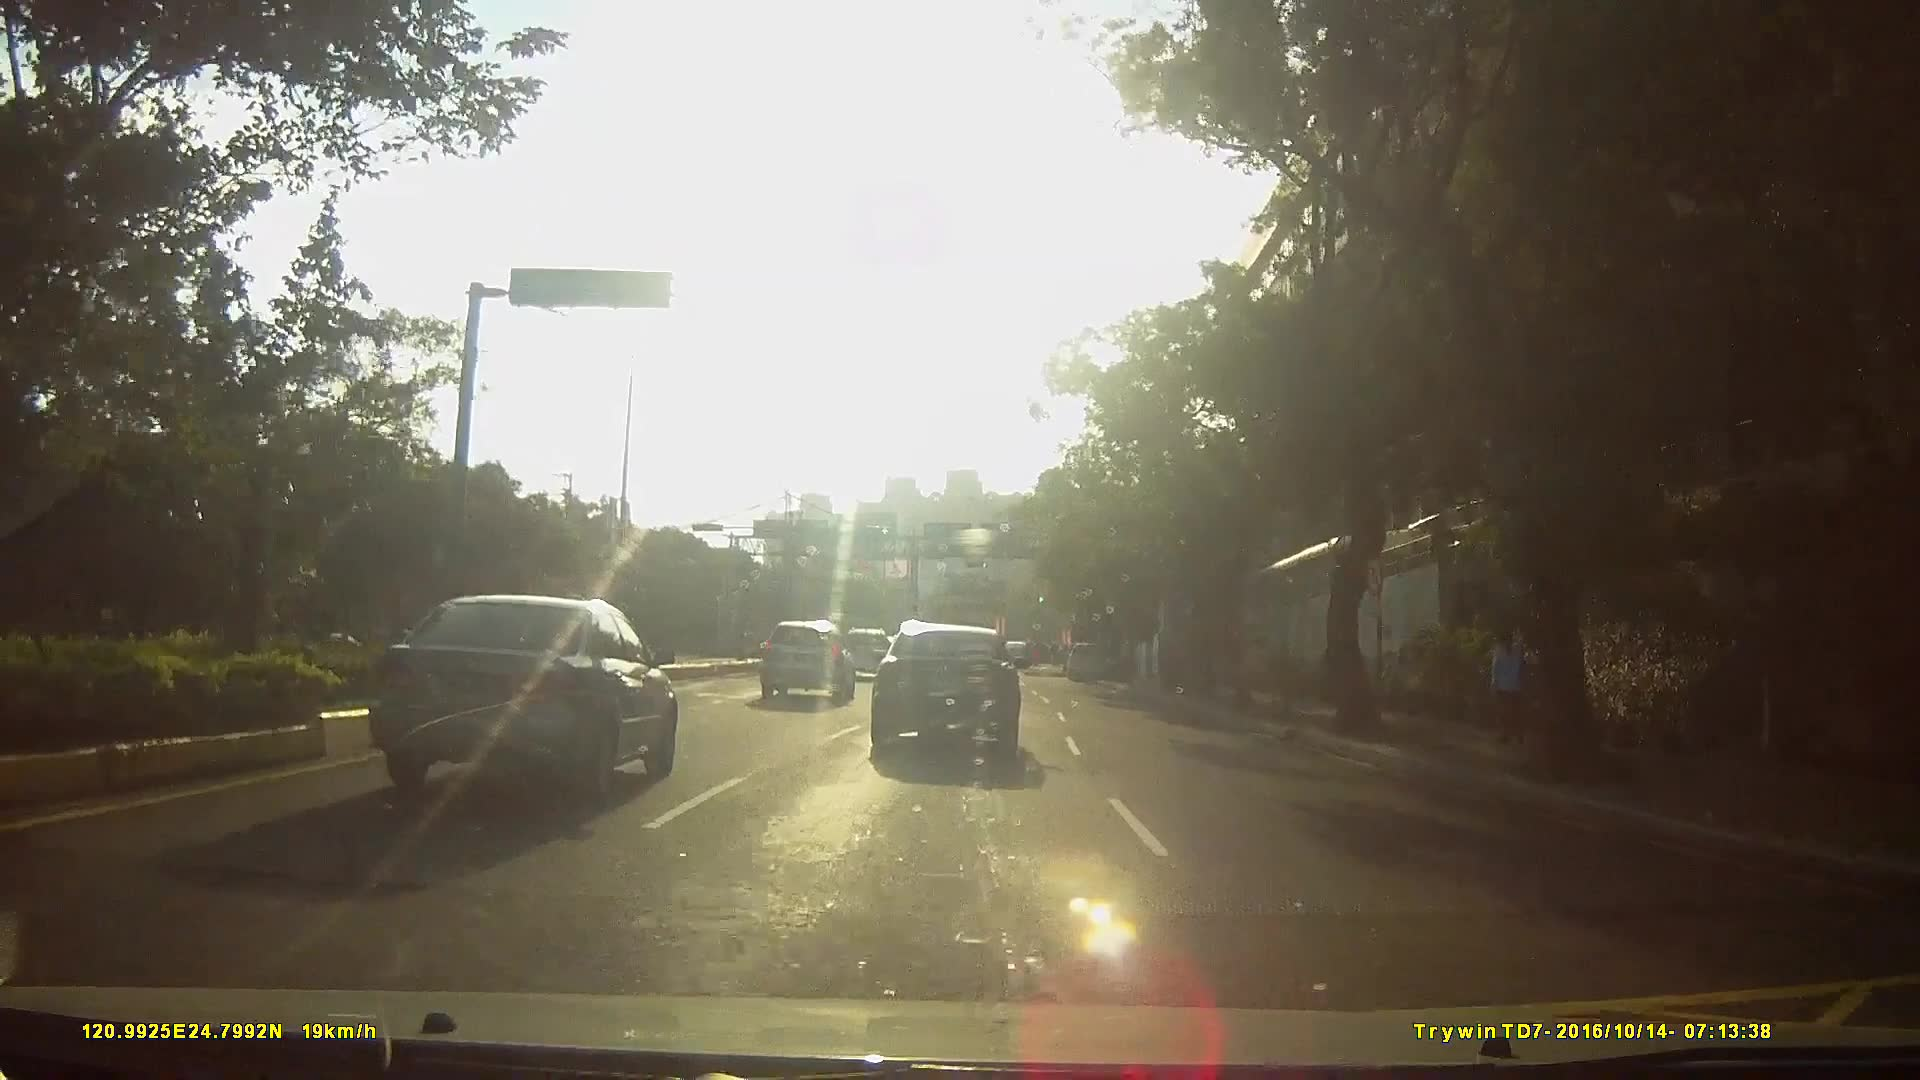pedestrian: (1486, 620, 1536, 746)
vehicle: (363, 586, 676, 800), (867, 616, 1041, 760), (758, 617, 858, 705), (841, 625, 895, 683), (1065, 637, 1114, 681)
